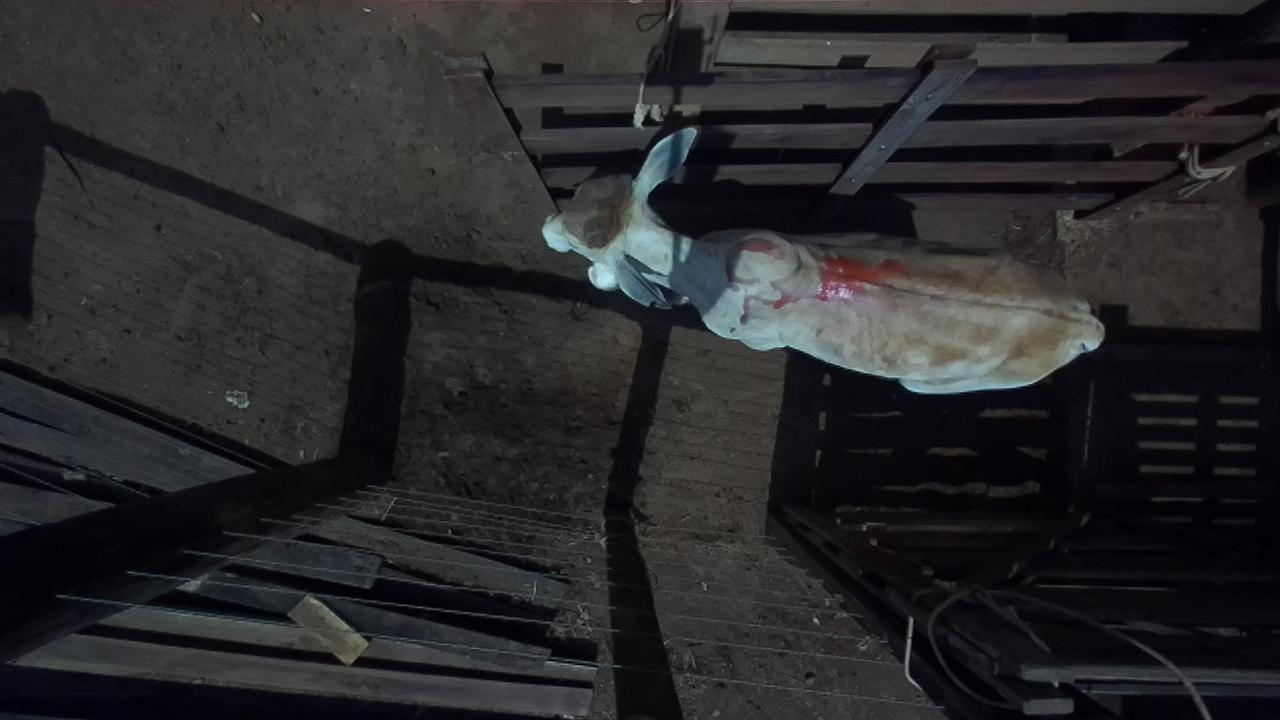cattle: (540, 124, 1106, 396)
